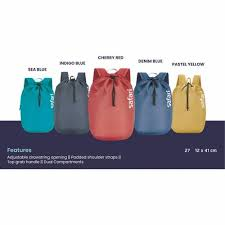backpack: (87, 67, 134, 141), (19, 77, 54, 133)
